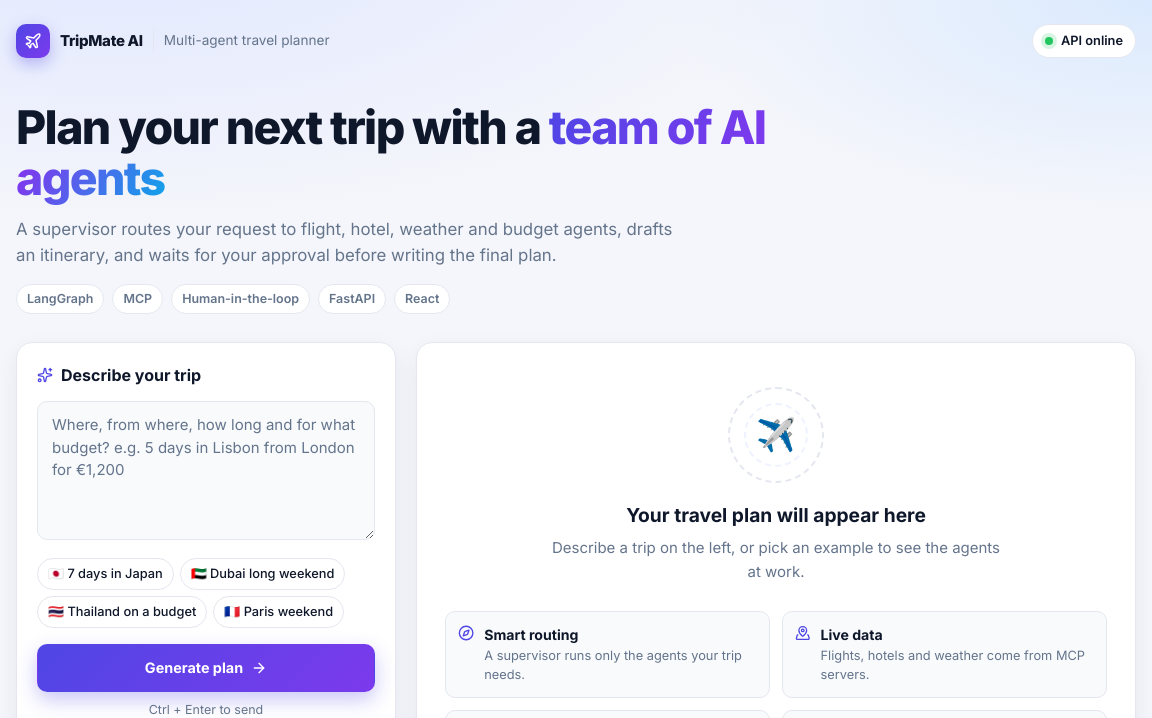
Test: App › shows the API error message and lets the user dismiss it
In the text box named "Travel request": (206,471) x1=37 y1=401 x2=375 y2=540, type "Plan a trip"
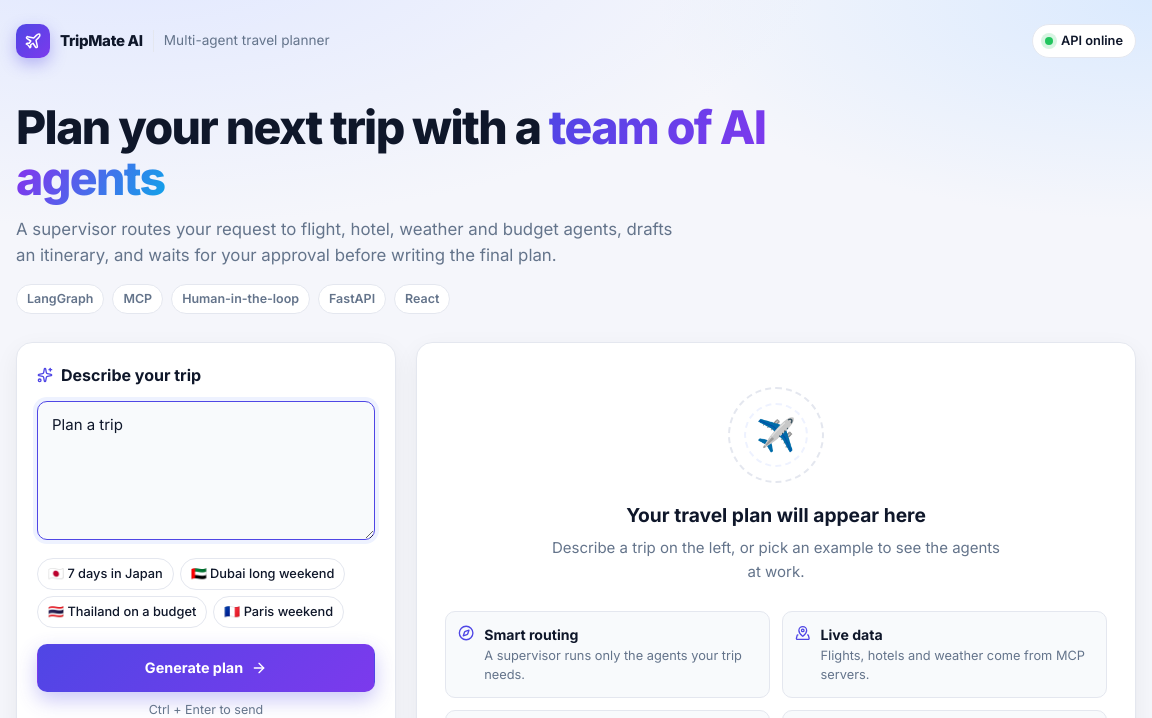
Click the button "Generate plan": (206,668) x1=37 y1=644 x2=375 y2=692
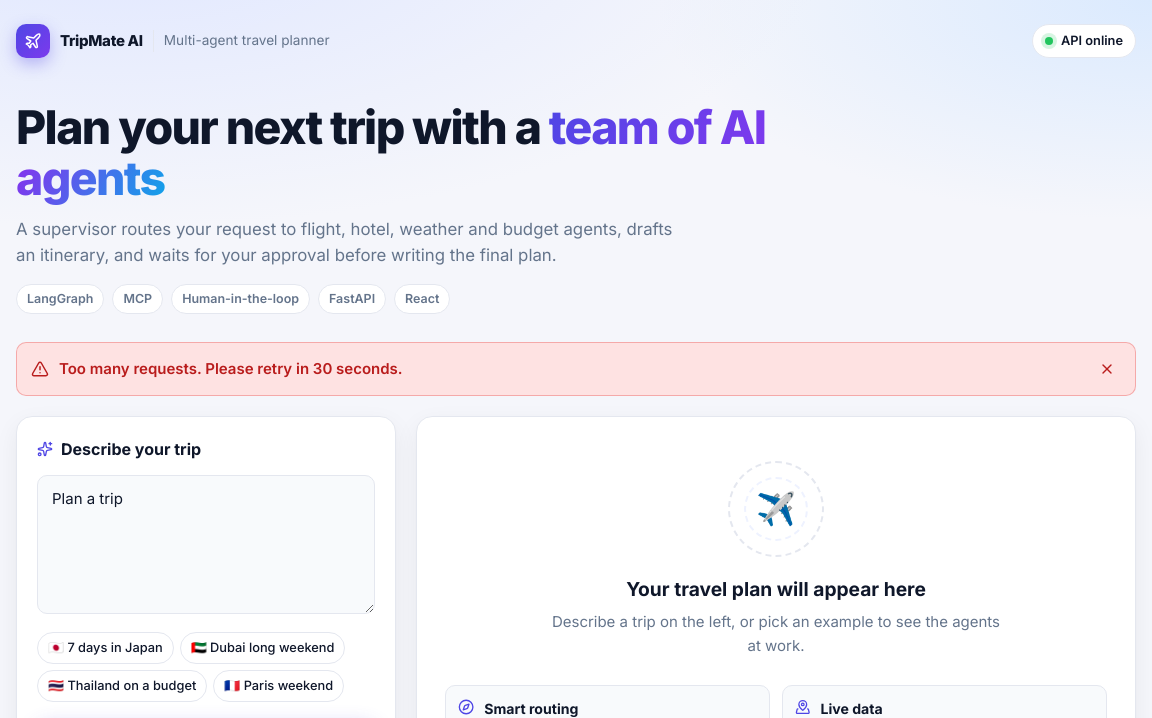
Expected: the message "Too many requests. Please retry in 30 seconds." is shown, x1=16 y1=342 x2=1136 y2=396
Click the button named "Dismiss error": (1107,368) x1=1093 y1=354 x2=1121 y2=382
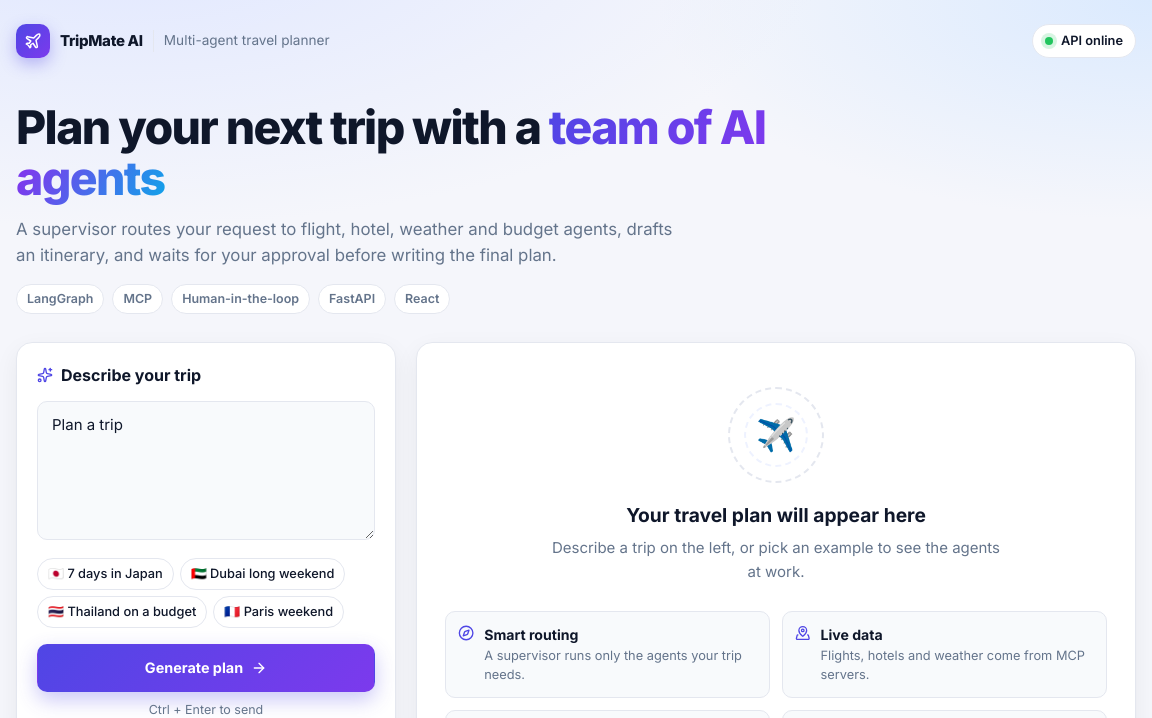
Expected: the message "Too many requests. Please retry in 30 seconds." is gone
